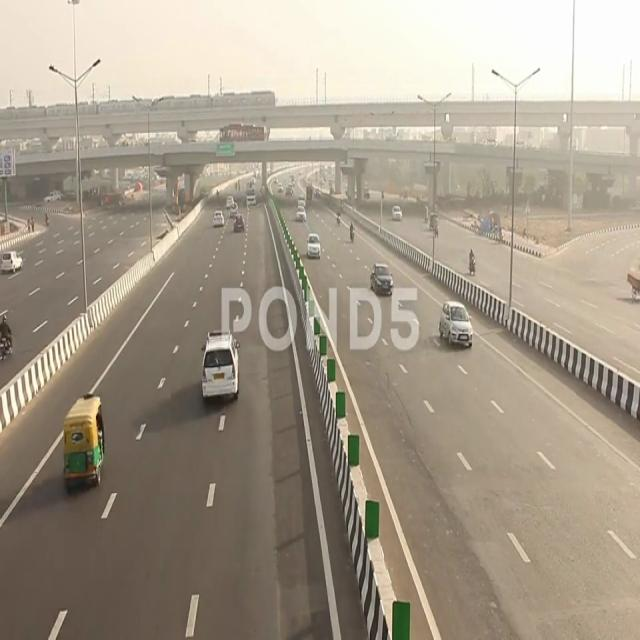car: (200, 324, 243, 414), (438, 296, 476, 365), (371, 260, 396, 308), (0, 246, 26, 280), (305, 228, 324, 261)
motorbike: (0, 311, 17, 365), (466, 248, 480, 276)
rikshaw: (59, 390, 110, 505)
